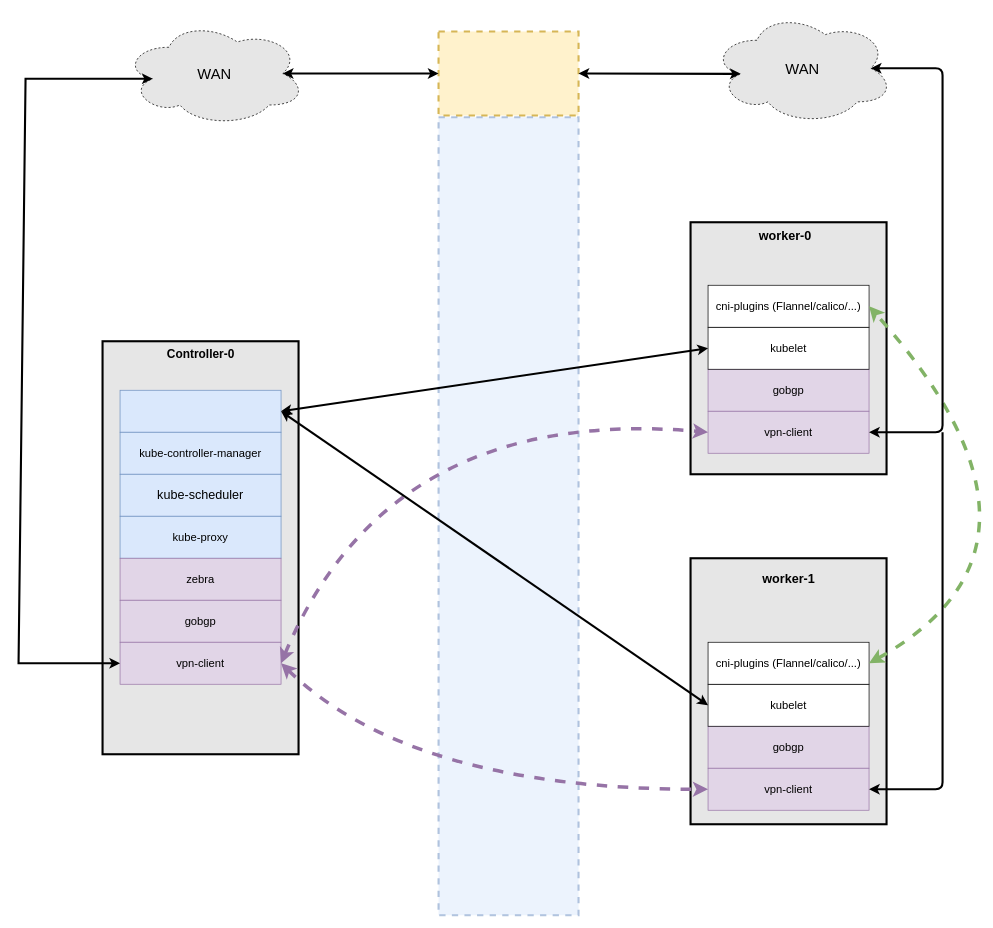
This 993x928 diagram has some shape labels left out. Here are the shapes that lost their labels. From the top down, the centre of each, then its label:
At pixel 508 73: "VPN-SERVER".
At pixel 200 411: "kube-apiserver".
At pixel 508 516: "Tunnel 1".
